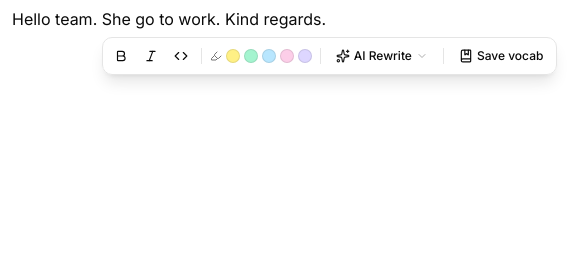
Test: Inline Suggestion menu › shows the API error without changing the Document
Press the mouse on the button "AI Rewrite": (382, 56) left=327, top=42, right=437, bottom=70
Click the button "AI Rewrite": click(382, 56) left=327, top=42, right=437, bottom=70
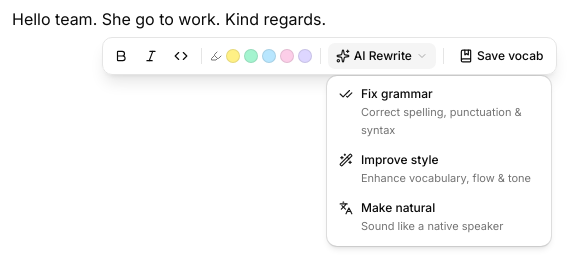
Click the menu item "Fix grammar Correct spelling, punctuation & syntax": click(430, 111) left=339, top=86, right=522, bottom=137
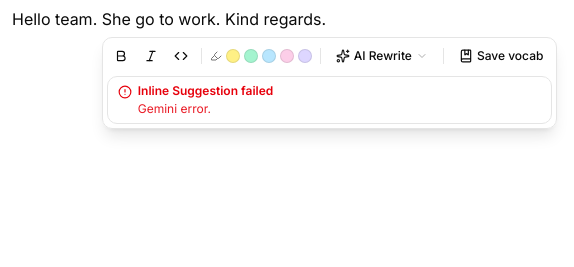
Check: the text box labelled "Hello team. She go to work. Kind regards." is shown, box left=12, top=9, right=326, bottom=29
Check: the message "Inline Suggestion failed Gemini error." is shown, box left=107, top=76, right=552, bottom=124
